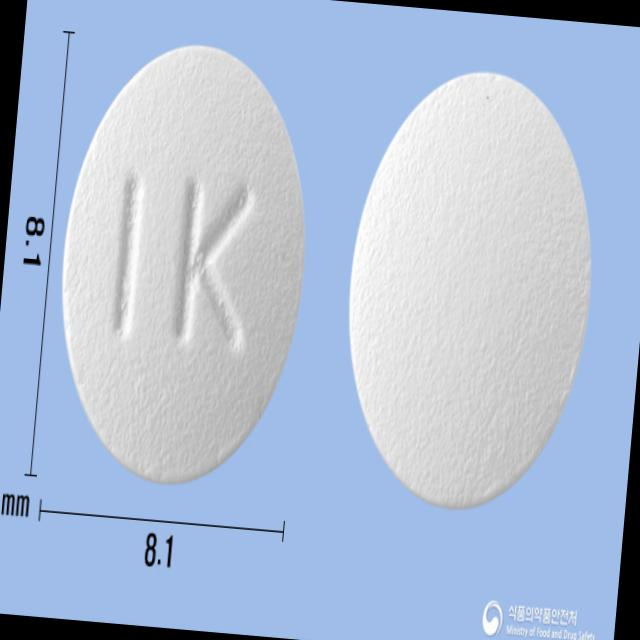Lesacra: (42, 29, 324, 495)
